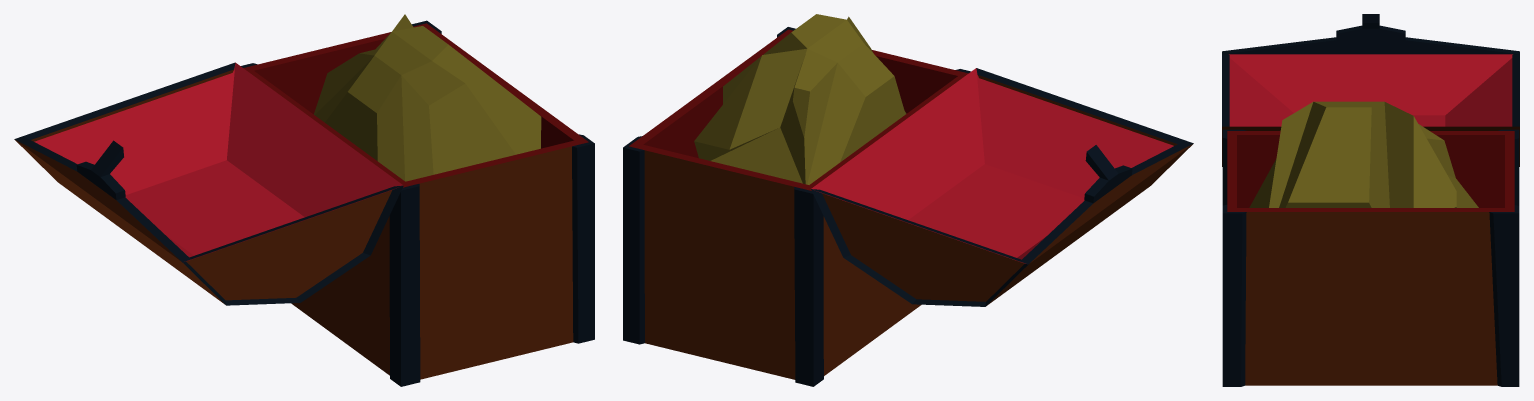
Rendered from treasure3.glb.
3 renders of one model, left to right at view 1: azimuth 30°, elevation 25°; view 2: azimuth 150°, elevation 25°; view 3: azimuth 270°, elevation 25°, orthographic. The views are drawn at different scales.
Parts seen in each view (by area): view 1: Cube; view 2: Cube; view 3: Cube.
Part boxes in pixels (box(x1,y1,x2,y2)): Cube: box(14, 14, 594, 386); Cube: box(623, 14, 1193, 386); Cube: box(1222, 14, 1519, 386).
Bounding box in the file's own units: 4.43 × 2.79 × 3.11.
1 material, 1 textured.
